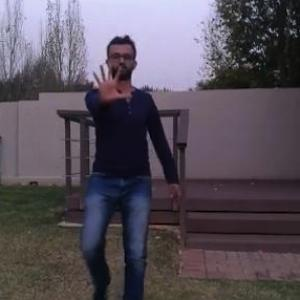follow_hand: (91, 60, 131, 102)
